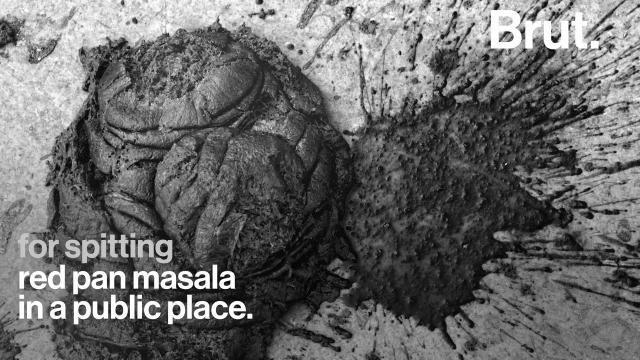spit: (346, 102, 590, 356)
